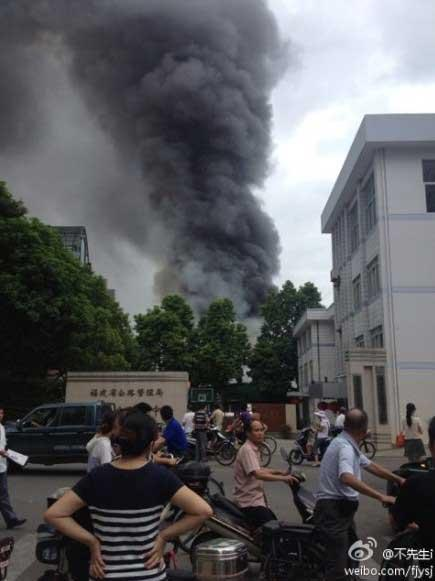smoke: (79, 1, 278, 306)
